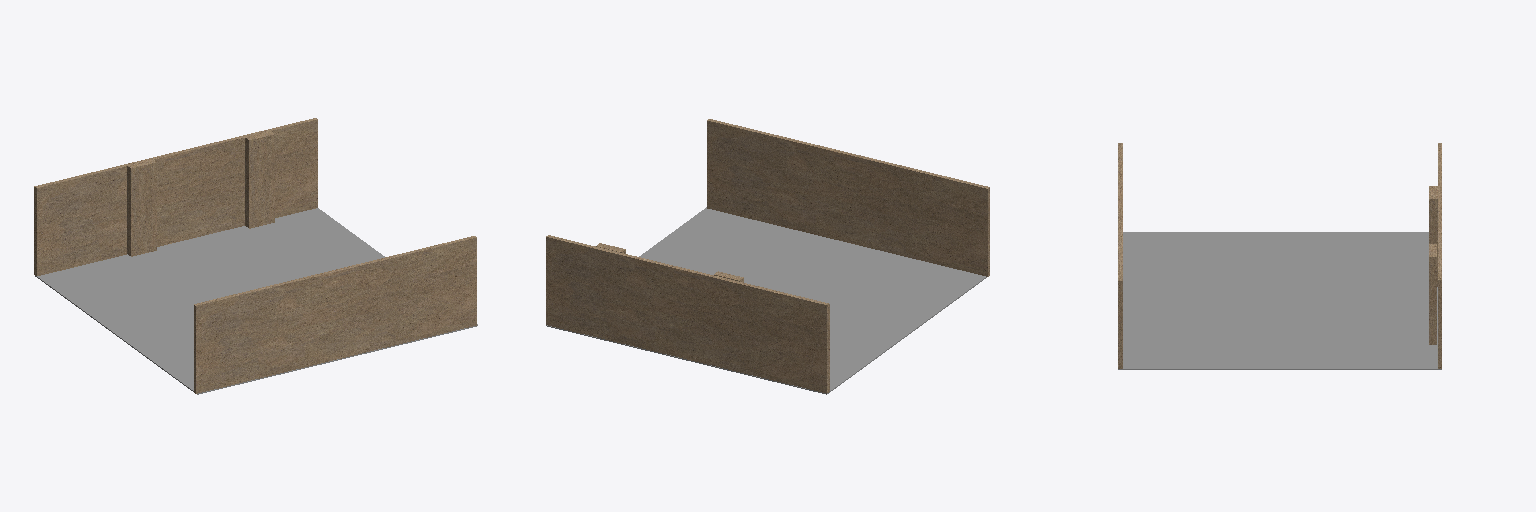
3 renders of one model, left to right at view 1: azimuth 30°, elevation 25°; view 2: azimuth 150°, elevation 25°; view 3: azimuth 270°, elevation 25°, orthographic.
Visible parts, largest first — view 1: Cube.004, Cube, Cube.001, Cube.003, Cube.002; view 2: Cube.001, Cube.004, Cube; view 3: Cube, Cube.004, Cube.001, Cube.003, Cube.002.
Boxes of the visible parts, <box> form: Cube.004: <box>194,236,476,393</box>; Cube: <box>35,208,477,394</box>; Cube.001: <box>34,118,317,275</box>; Cube.003: <box>245,131,274,228</box>; Cube.002: <box>127,159,156,256</box>; Cube.001: <box>546,235,829,393</box>; Cube.004: <box>707,119,989,276</box>; Cube: <box>546,207,986,394</box>; Cube: <box>1118,232,1441,369</box>; Cube.004: <box>1118,143,1122,368</box>; Cube.001: <box>1438,143,1441,368</box>; Cube.003: <box>1429,244,1436,344</box>; Cube.002: <box>1429,186,1437,286</box>.
Bounding box in the file's own units: 61.19 × 18.71 × 60.99.
2 materials, 1 textured.